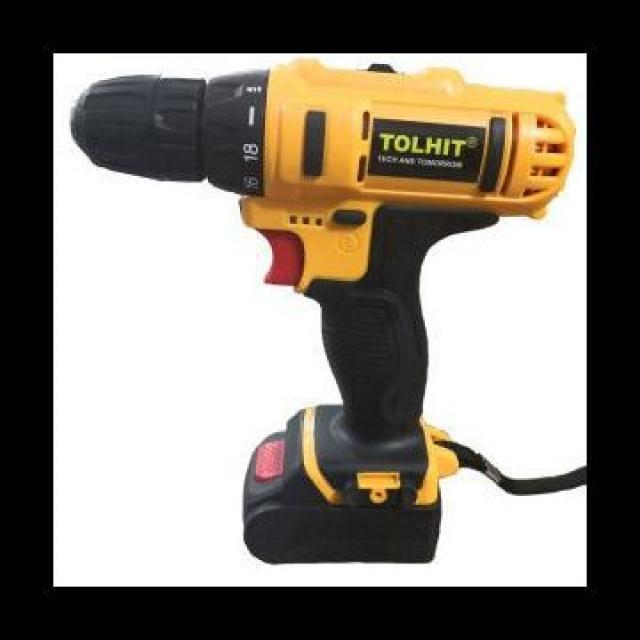drill: (69, 57, 576, 566)
